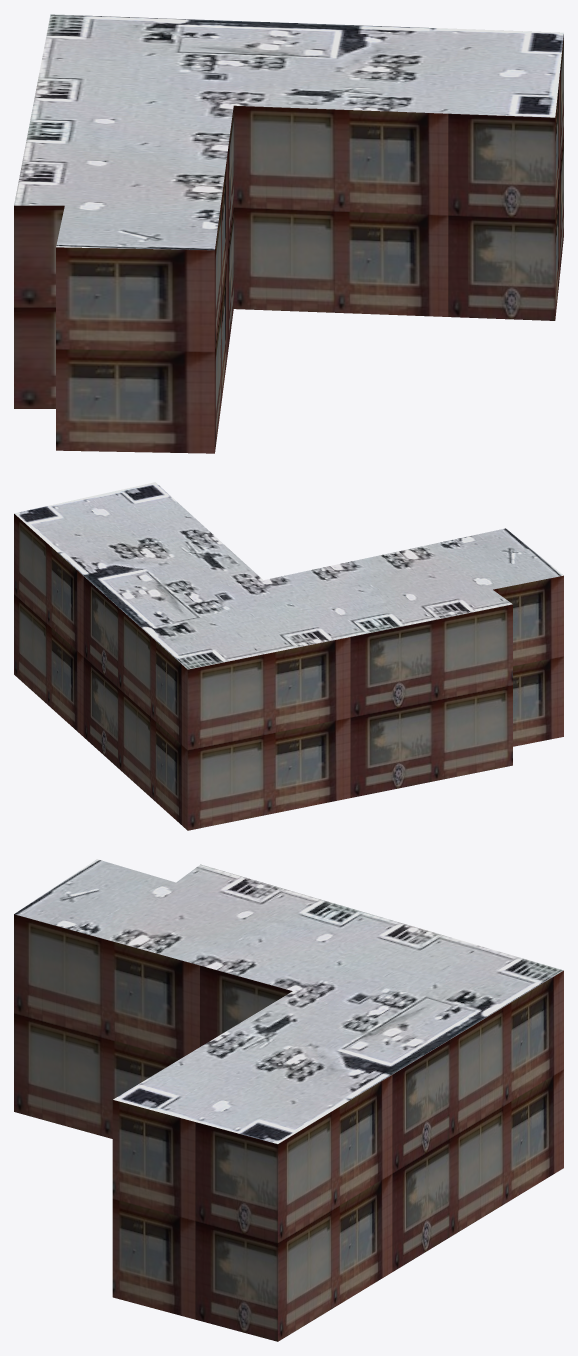
File: ResTex__3215.fbx
3 renders of one model, top to bottom at view 1: azimuth 30°, elevation 25°; view 2: azimuth 150°, elevation 25°; view 3: azimuth 270°, elevation 25°, orthographic. The views are drawn at different scales.
Visible parts, largest first — view 1: CityEngineMaterial_13_m, CityEngineMaterial_4_m; view 2: CityEngineMaterial_13_m, CityEngineMaterial_4_m; view 3: CityEngineMaterial_13_m, CityEngineMaterial_4_m.
Part boxes in pixels (x1,y1,x2,y2): CityEngineMaterial_13_m: (14, 34, 563, 453); CityEngineMaterial_4_m: (14, 14, 563, 250); CityEngineMaterial_13_m: (14, 514, 563, 830); CityEngineMaterial_4_m: (14, 482, 563, 669); CityEngineMaterial_13_m: (14, 914, 563, 1341); CityEngineMaterial_4_m: (14, 859, 563, 1143).
Size of the model in its own units: 18.56 by 6 by 15.13.
2 materials, 2 textured.
